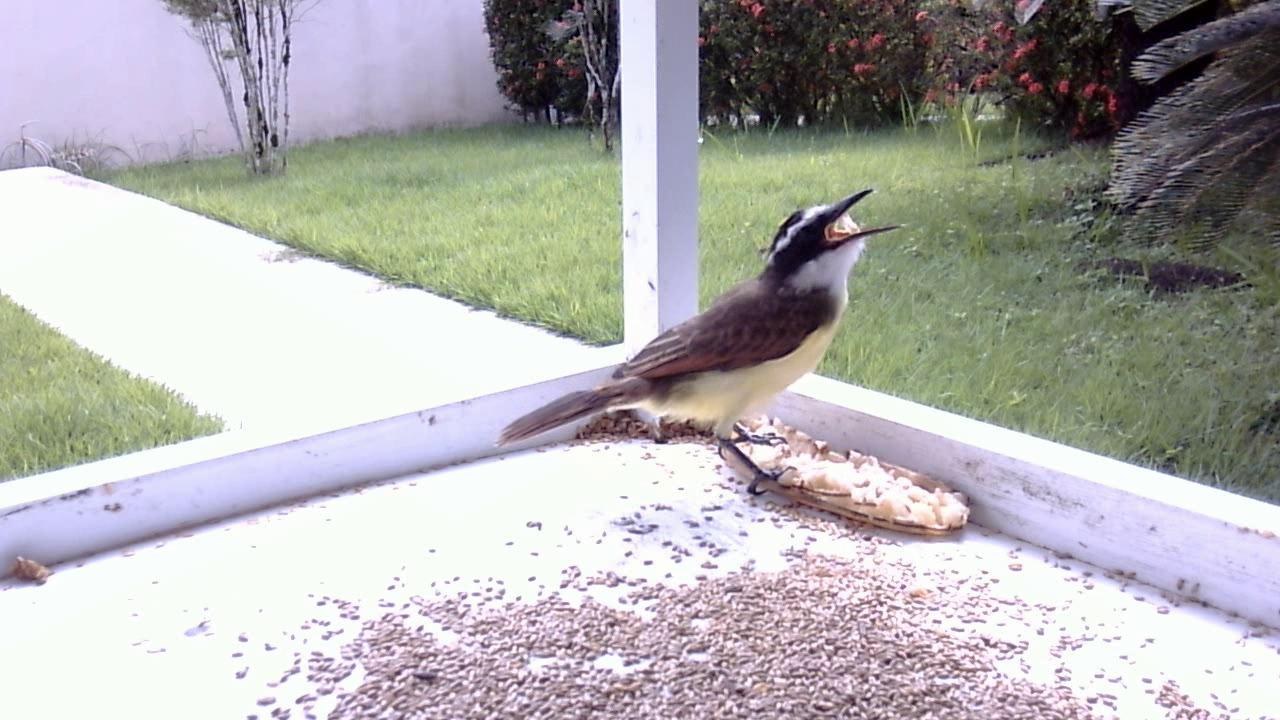bem_te_vi: (475, 180, 915, 521)
